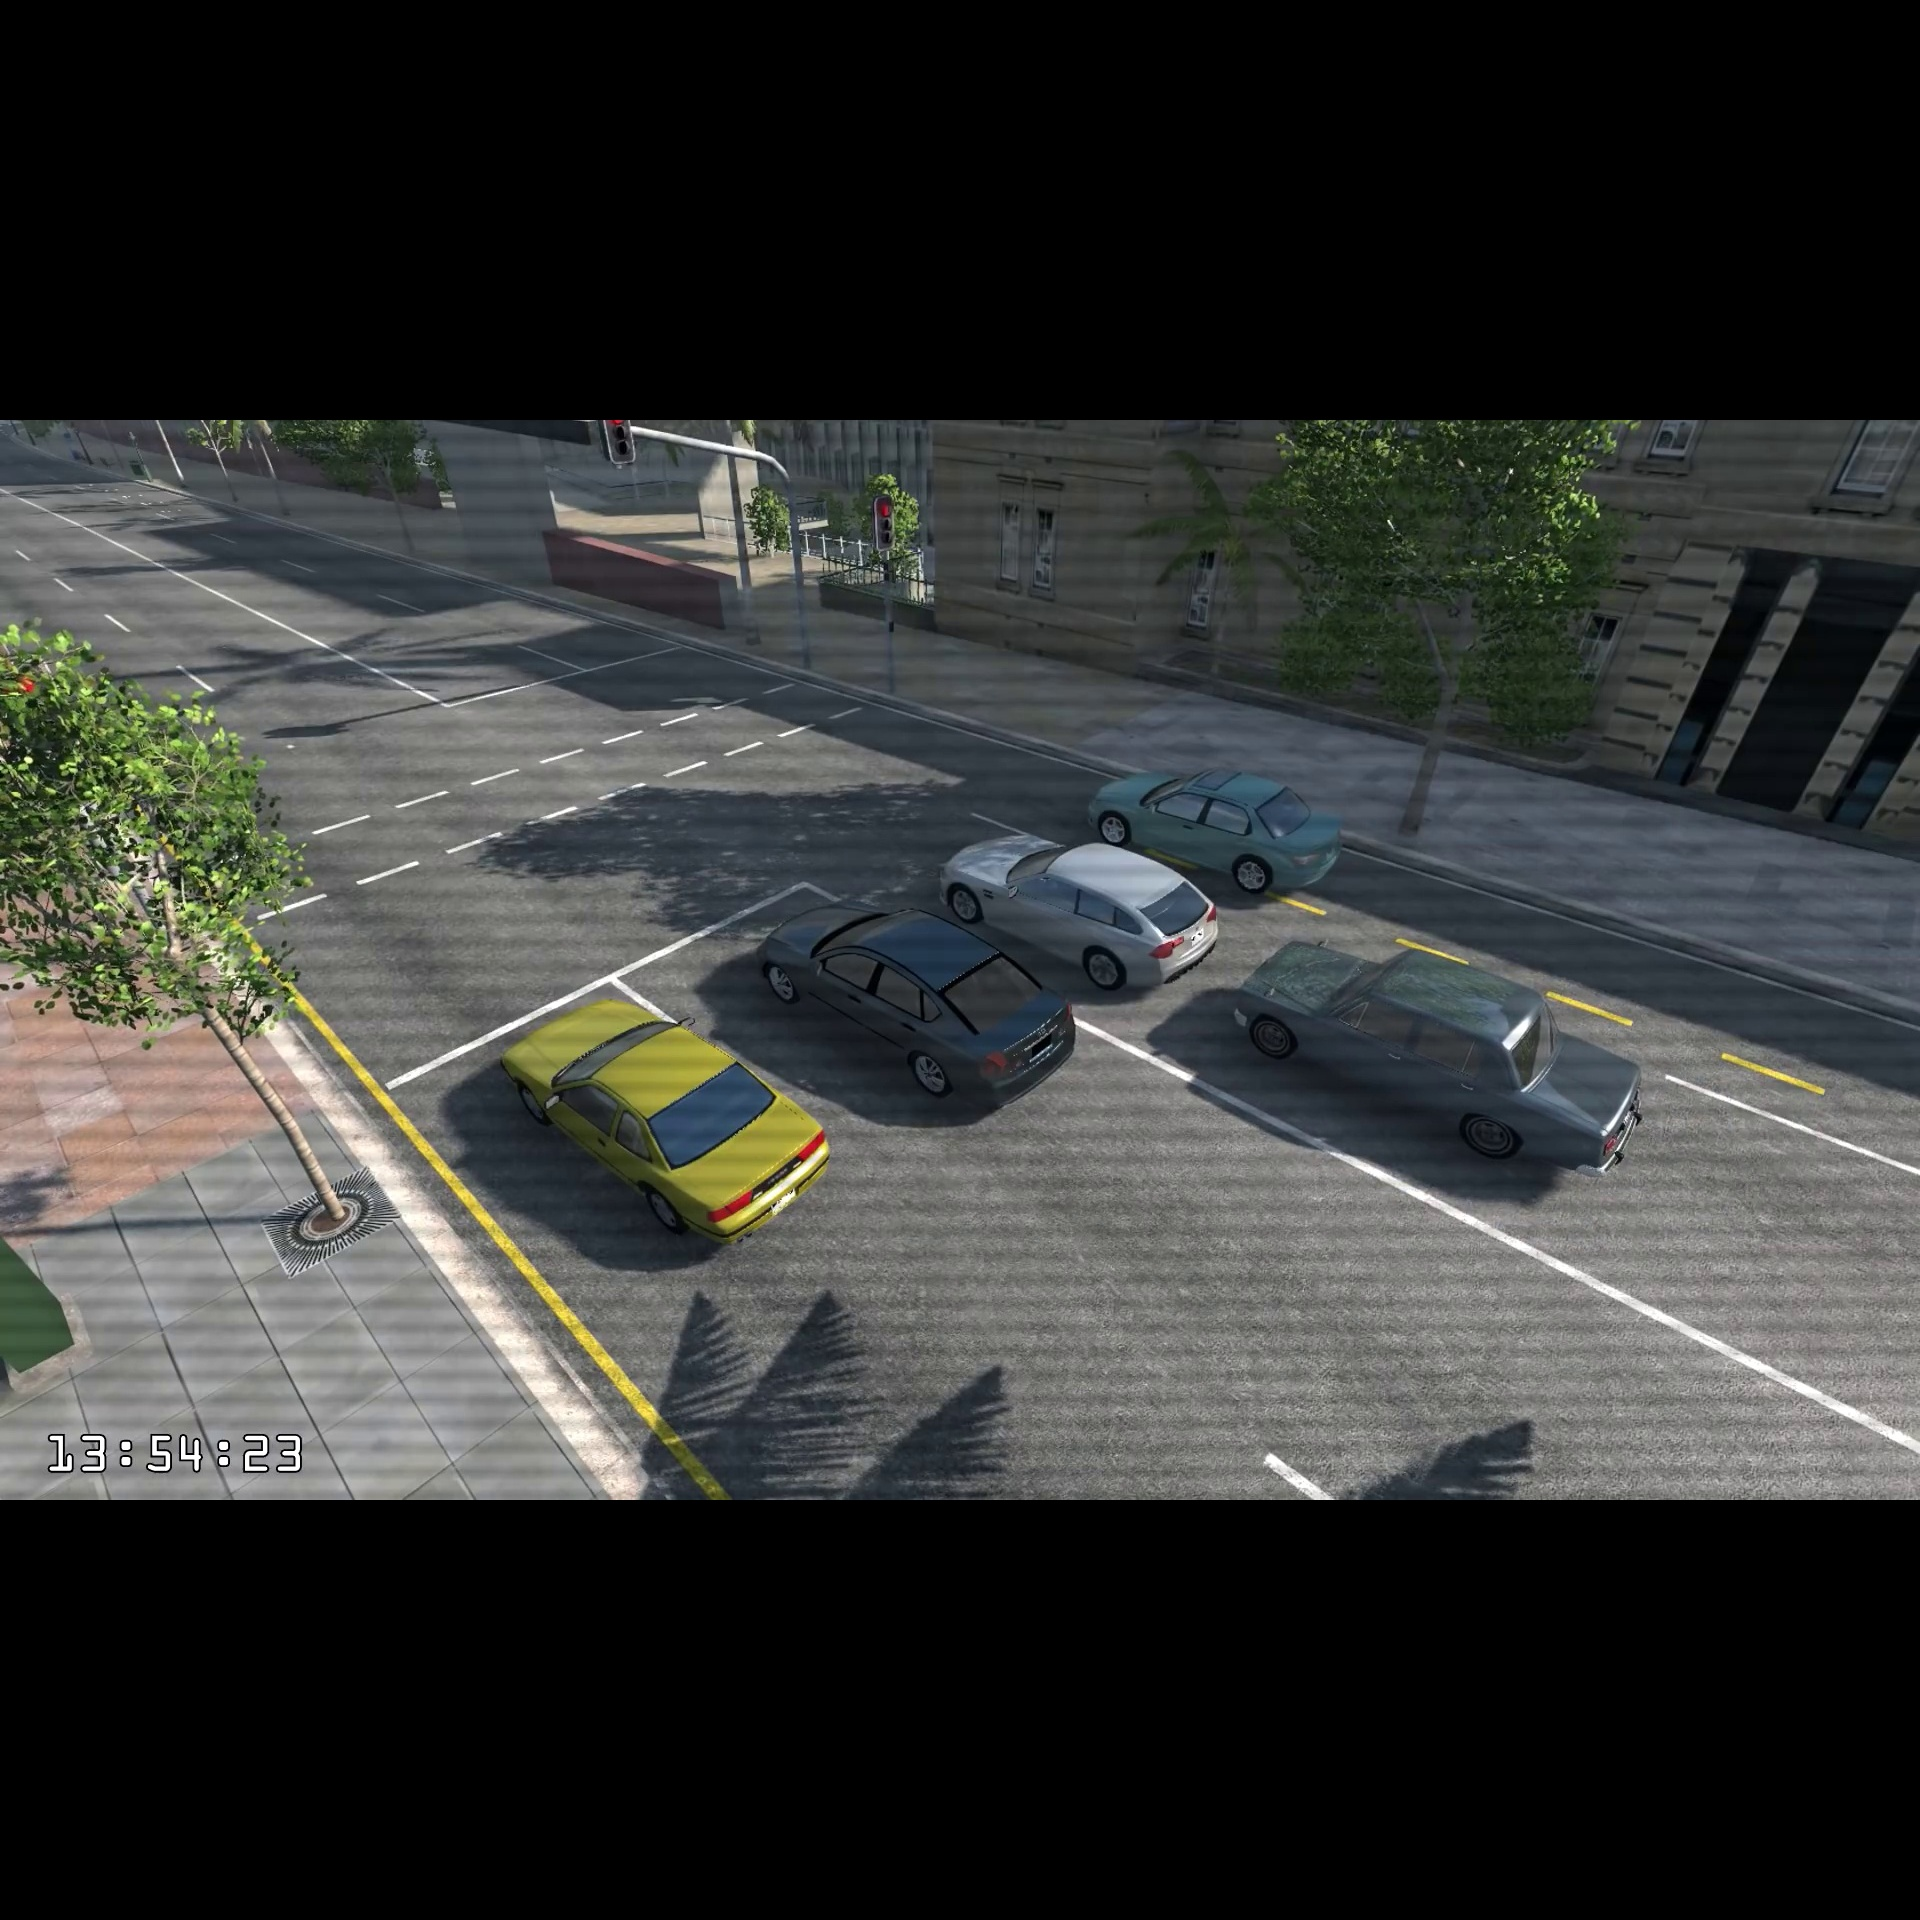vehicle: (1225, 930, 1655, 1192), (489, 986, 839, 1254), (758, 895, 1085, 1118), (935, 823, 1227, 995), (1081, 754, 1354, 895)
